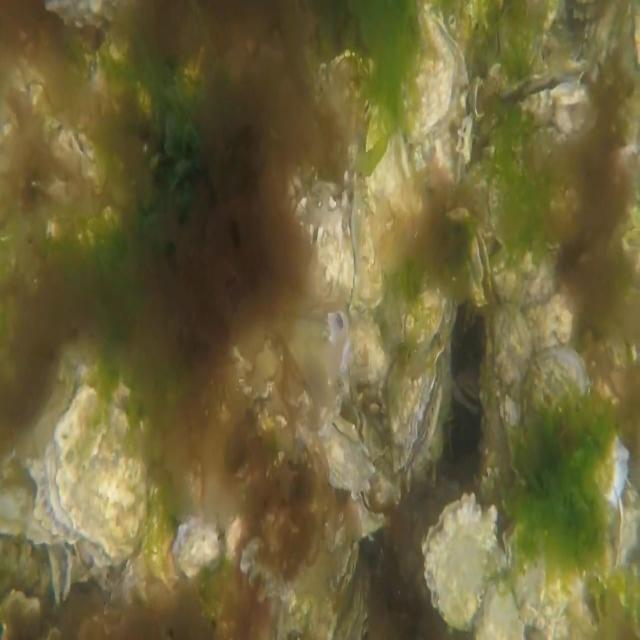Oyster-Closed: (502, 512, 585, 626), (389, 347, 446, 474), (300, 415, 376, 498), (341, 172, 361, 308), (344, 485, 389, 538)
Oyster-Indeterminate: (45, 383, 146, 565), (523, 344, 629, 507), (422, 491, 498, 630), (364, 104, 416, 274), (401, 0, 457, 147), (488, 304, 532, 478), (492, 243, 560, 310), (411, 284, 456, 366), (354, 185, 382, 316), (172, 514, 220, 578)
Oyster-Open: (496, 66, 594, 156), (469, 228, 494, 308), (307, 202, 338, 263)
